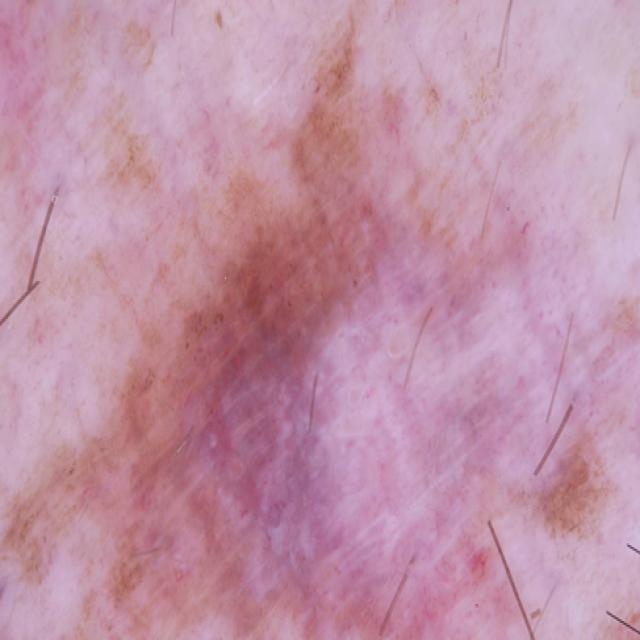Melanoma: (115, 108, 567, 640)
